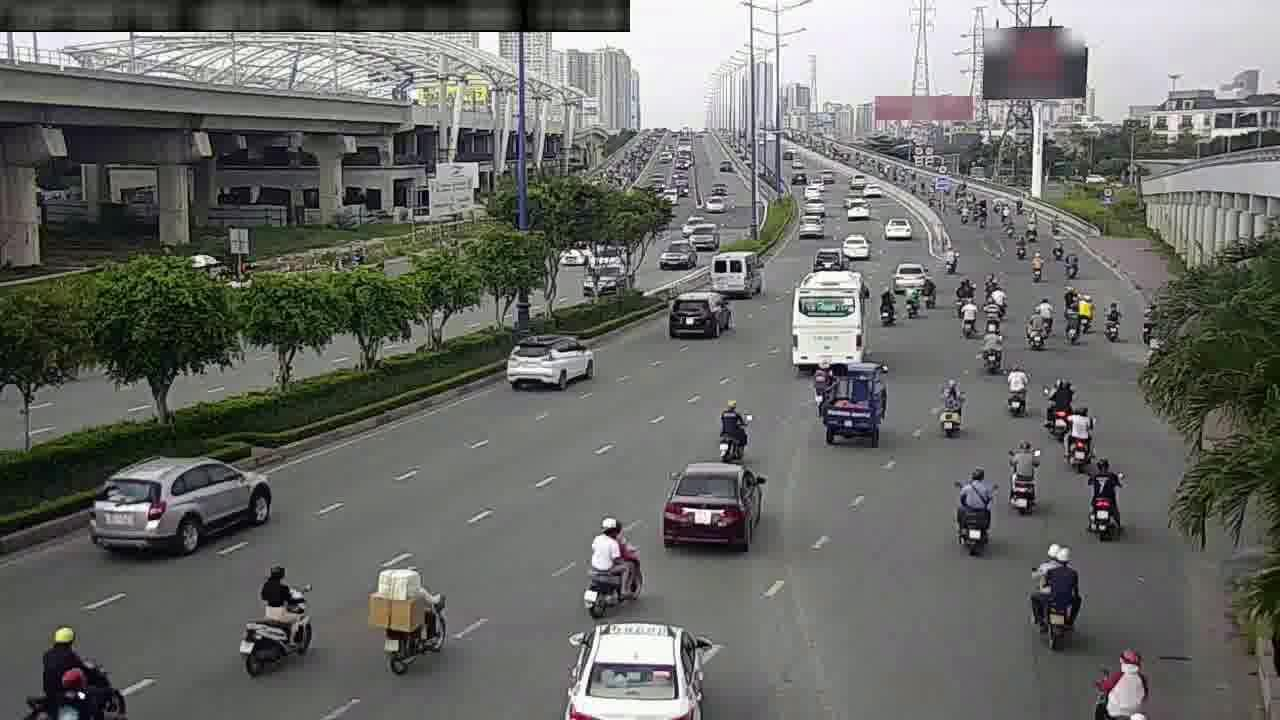car: (72, 460, 286, 558), (656, 451, 776, 550), (486, 325, 601, 393), (656, 292, 738, 339), (884, 253, 929, 293)
motorbike: (345, 548, 452, 691), (222, 563, 328, 669), (563, 518, 658, 616), (1020, 532, 1087, 656), (949, 467, 1005, 557), (1085, 454, 1133, 545), (1003, 433, 1050, 522), (705, 392, 762, 463), (937, 374, 979, 439), (1068, 407, 1102, 480), (1042, 376, 1079, 442), (1130, 297, 1172, 351), (999, 362, 1034, 422), (870, 279, 898, 334), (975, 295, 1008, 339), (1097, 295, 1118, 348), (1082, 282, 1099, 335), (1026, 304, 1047, 346), (981, 328, 1000, 373), (898, 282, 921, 317), (958, 293, 971, 333), (1058, 302, 1072, 333)
passenger_car: (773, 266, 865, 382), (709, 247, 769, 301)
